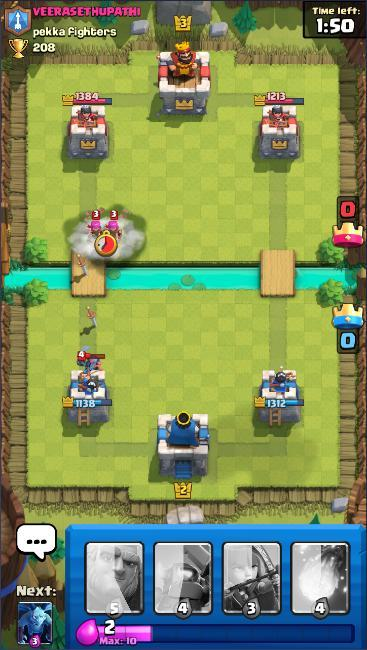enemy_archer: (102, 207, 125, 245), (85, 208, 106, 242)
enemy_mini_pekka: (75, 350, 108, 384)
